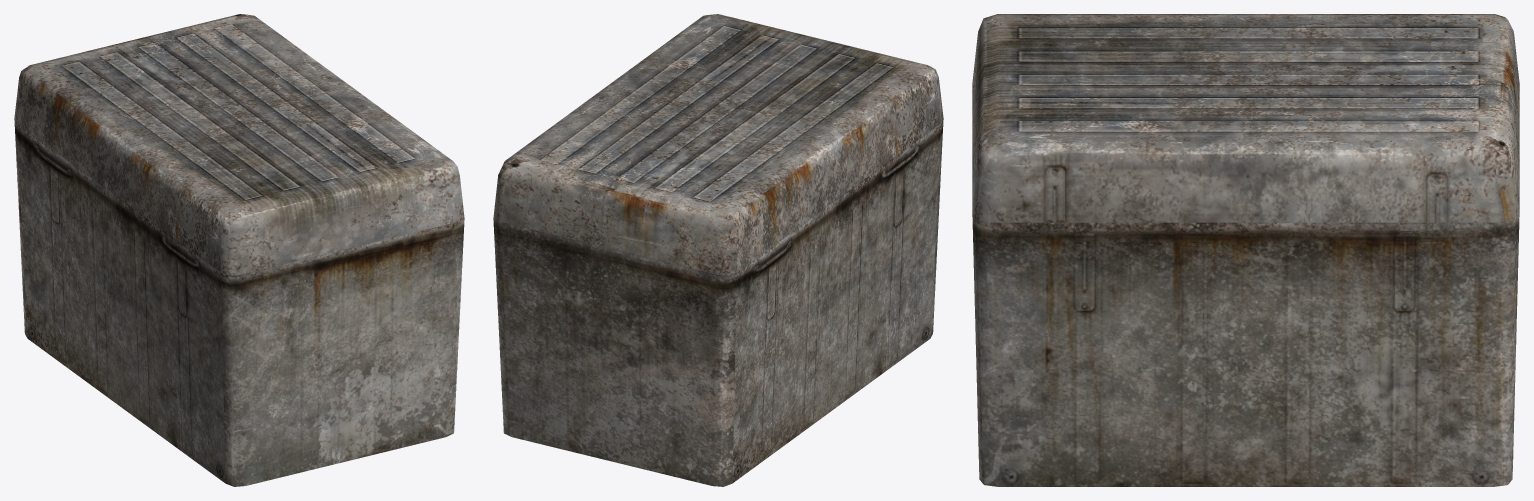
File: trunk_metal_box.FBX
3 renders of one model, left to right at view 1: azimuth 30°, elevation 25°; view 2: azimuth 150°, elevation 25°; view 3: azimuth 270°, elevation 25°, orthographic. The views are drawn at different scales.
Visible parts, largest first — view 1: trunk_metal_box; view 2: trunk_metal_box; view 3: trunk_metal_box.
Boxes of the visible parts, x1,y1,x2,y2 form: trunk_metal_box: [14, 14, 464, 486]; trunk_metal_box: [493, 14, 943, 486]; trunk_metal_box: [972, 14, 1519, 486].
Bounding box in the file's own units: 0.3277 × 0.351 × 0.5145.
